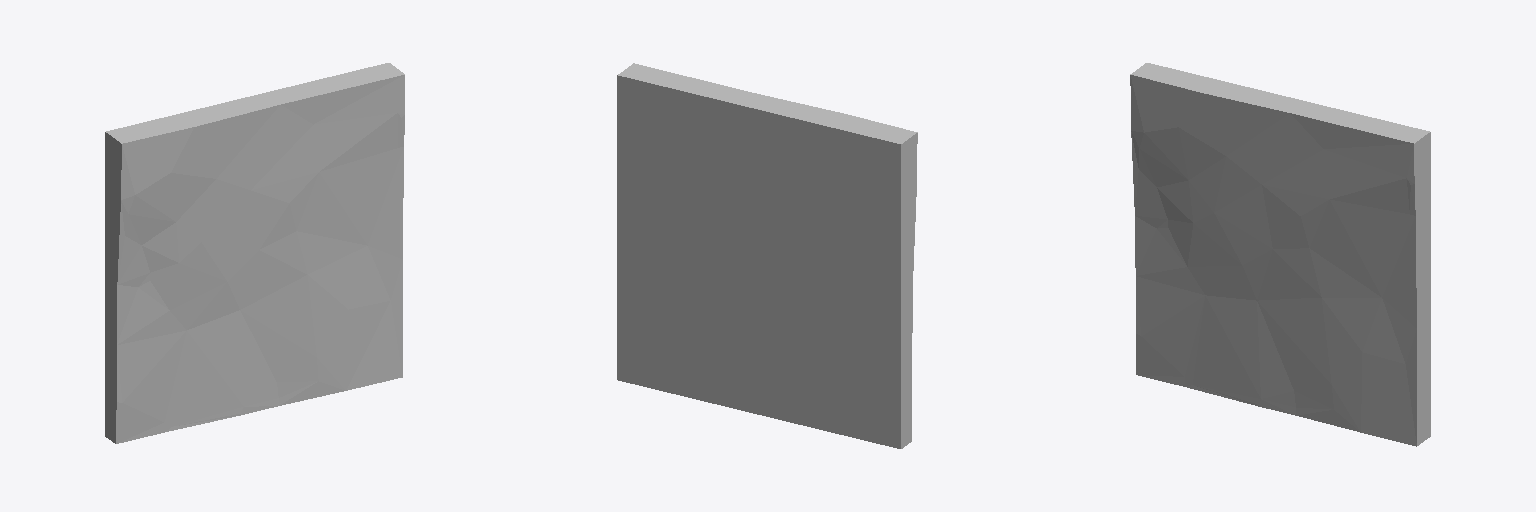
File: Blanchardstown_TUDublin_Floor v3.obj
3 renders of one model, left to right at view 1: azimuth 30°, elevation 25°; view 2: azimuth 150°, elevation 25°; view 3: azimuth 330°, elevation 25°, orthographic.
Parts seen in each view (by area): view 1: Body379; view 2: Body379; view 3: Body379.
Boxes of the visible parts, x1=… form: Body379: x1=105, y1=63, x2=404, y2=443; Body379: x1=617, y1=63, x2=917, y2=448; Body379: x1=1130, y1=63, x2=1430, y2=446.
Size of the model in its own units: 78.4 by 80.53 by 8.37.